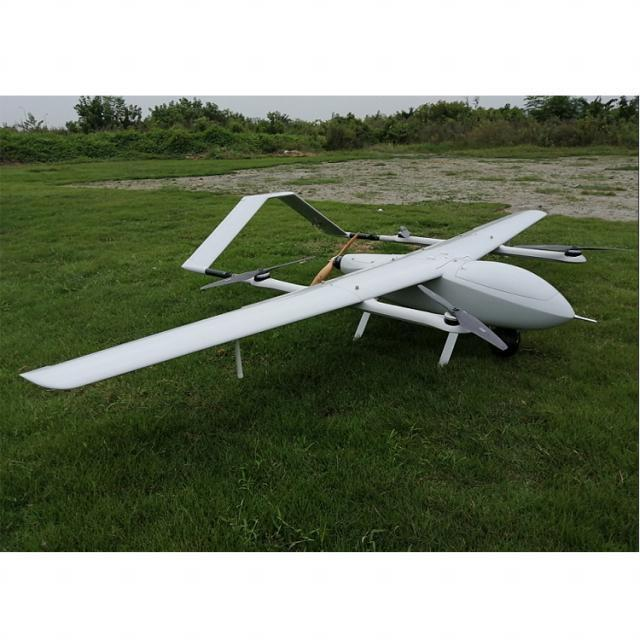Airplane: (18, 185, 608, 402)
